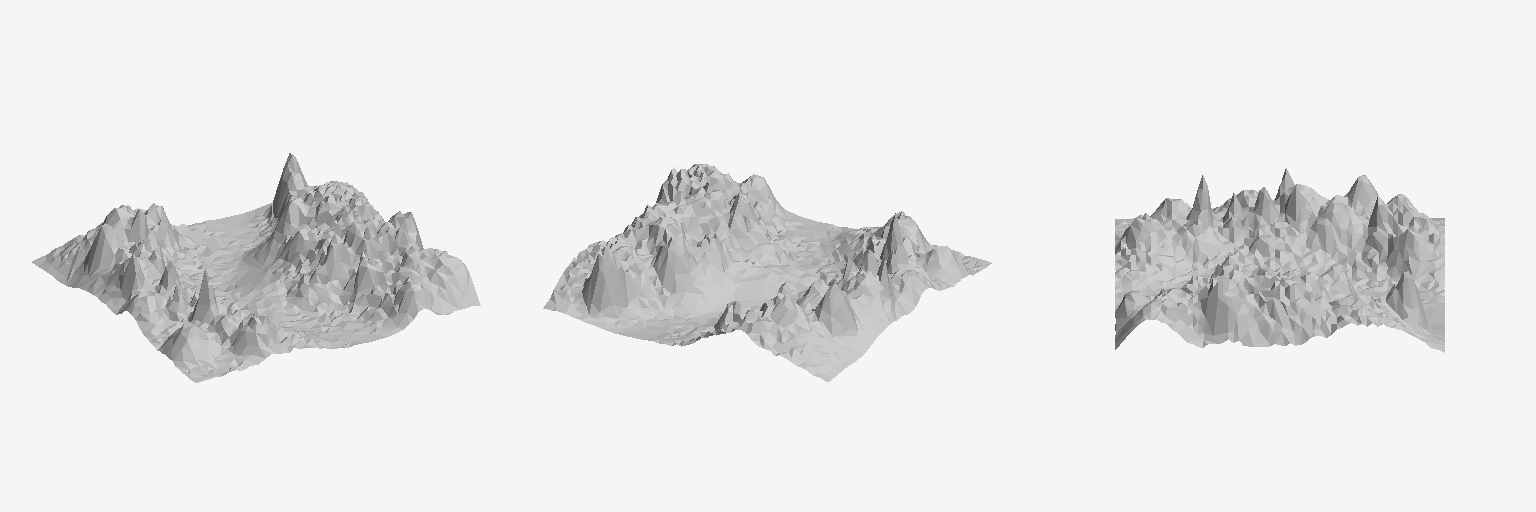
Rendered from terrain1.obj.
3 views of the same model, side by side, from view 1: azimuth 30°, elevation 25°; view 2: azimuth 150°, elevation 25°; view 3: azimuth 270°, elevation 25° (orthographic).
Visible parts, largest first — view 1: Plane; view 2: Plane; view 3: Plane.
Part boxes in pixels (x1,y1,x2,y2): Plane: (32, 153, 480, 382); Plane: (543, 164, 991, 381); Plane: (1115, 168, 1444, 352).
Bounding box in the file's own units: 16.04 × 4.07 × 16.01.